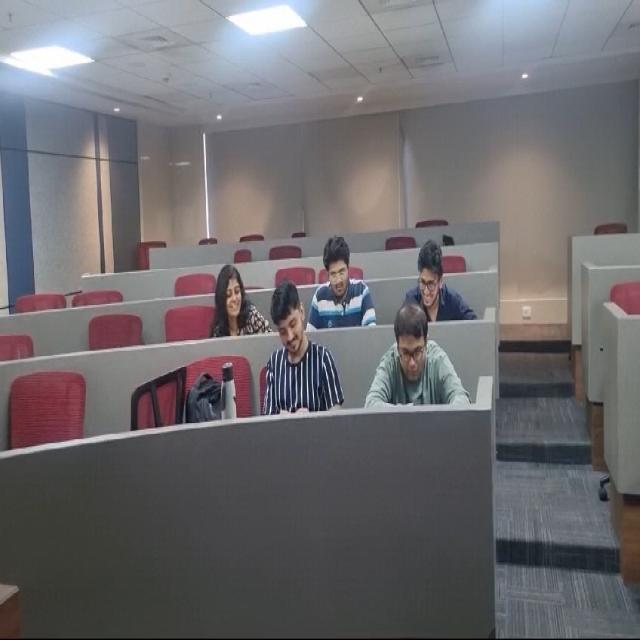cheating: (259, 281, 327, 409), (403, 220, 483, 328), (207, 254, 265, 343)
non-cheating: (304, 210, 382, 328), (375, 307, 453, 413)
